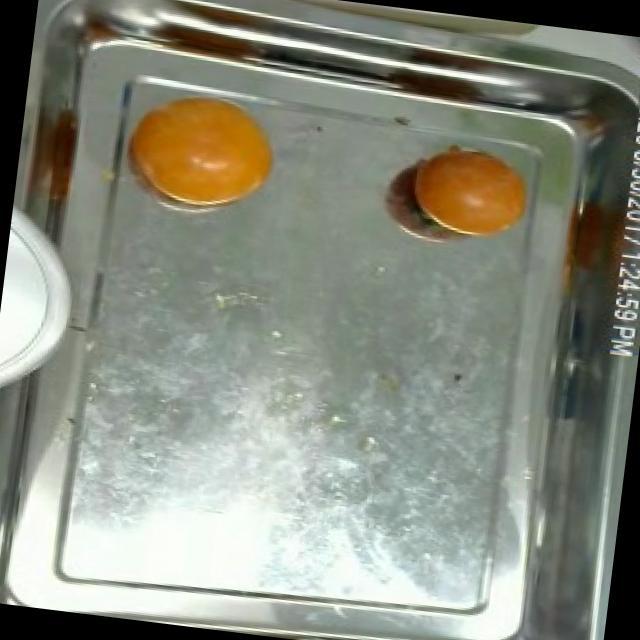Fruit: (104, 68, 298, 232), (393, 129, 554, 252)
